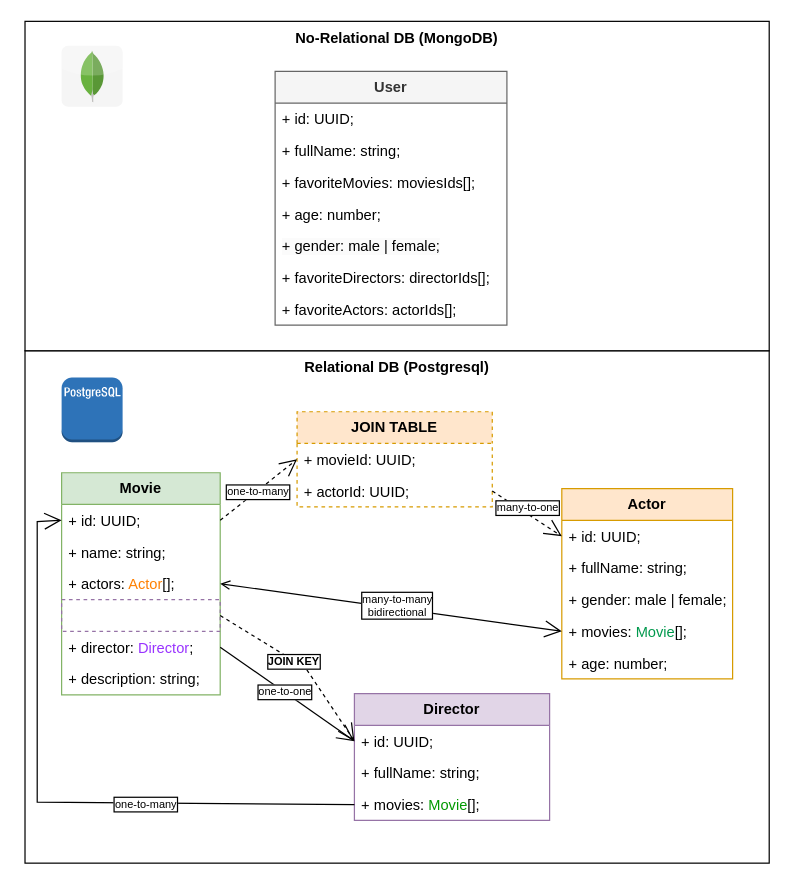
This 791x885 diagram has some shape labels left out. Here are the shapes that lost their labels. From the top down, the centre of each, then its label:
(x=91, y=76): Mongo DB
(x=140, y=614): + directorId: string;
